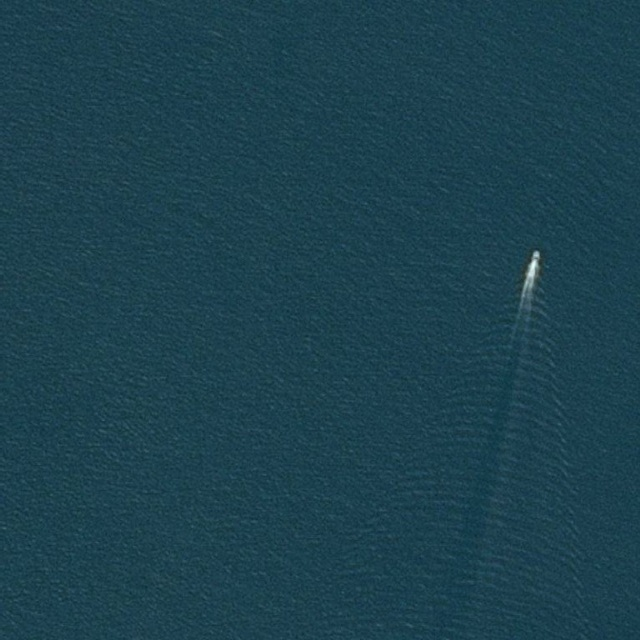wake: (424, 234, 603, 494)
